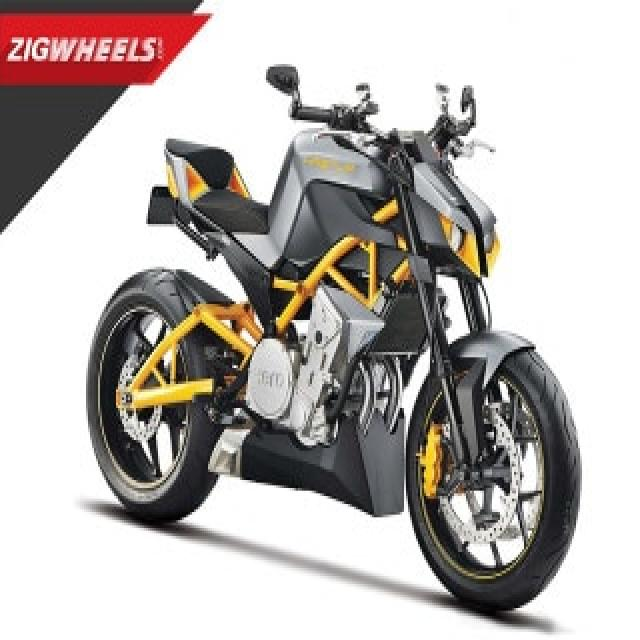MOTORCYCLE: (87, 120, 578, 614)
